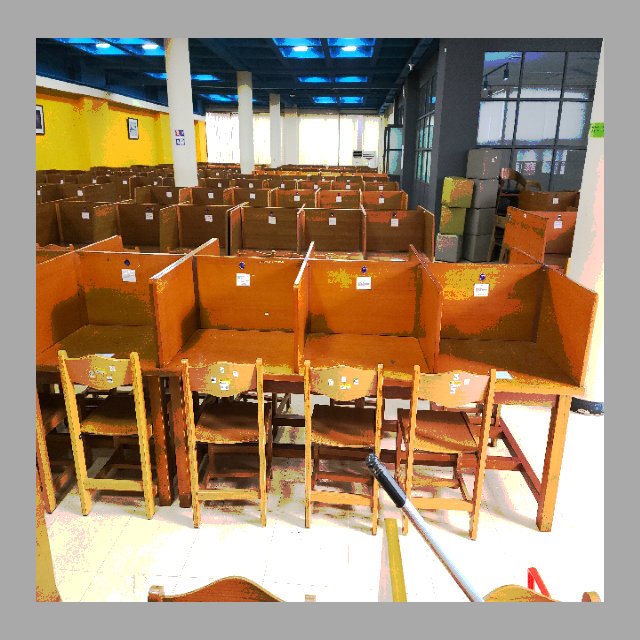empty: (446, 252, 593, 463), (300, 255, 436, 448), (169, 255, 293, 431)
